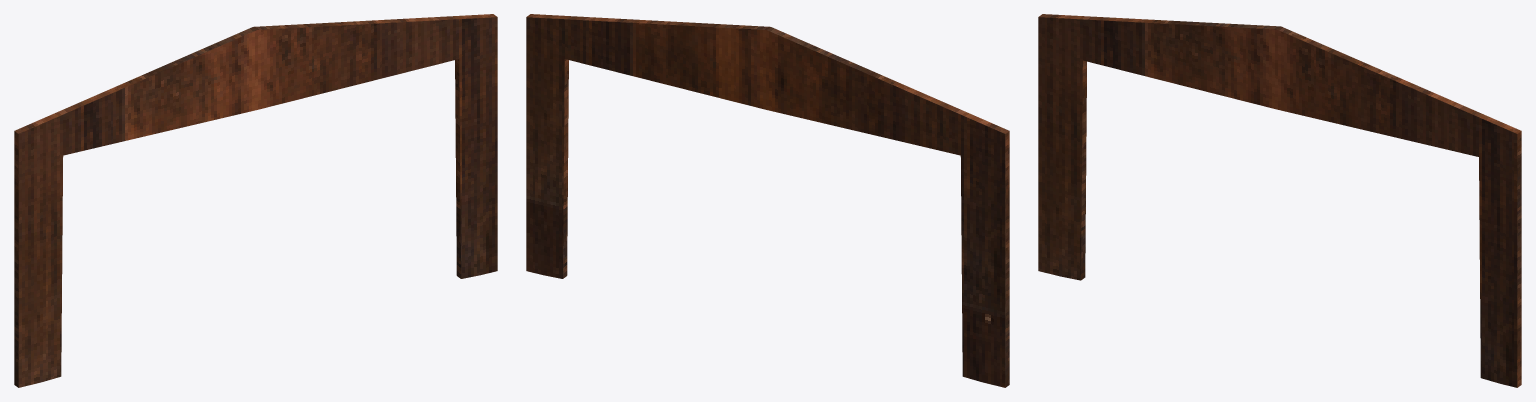
The model's file is SM_Stage_Frame_Test01.glb.
The picture shows the model from 3 angles, left to right: view 1: azimuth 30°, elevation 25°; view 2: azimuth 150°, elevation 25°; view 3: azimuth 330°, elevation 25°; orthographic projection.
Visible parts, largest first — view 1: SM_Stage_frame; view 2: SM_Stage_frame; view 3: SM_Stage_frame.
Part boxes in pixels (x1,y1,x2,y2): SM_Stage_frame: (14,14,497,387); SM_Stage_frame: (526,14,1009,387); SM_Stage_frame: (1038,14,1521,387).
Size of the model in its own units: 15.64 by 9.35 by 0.2426.
Materials: 1 (1 with a texture image).
